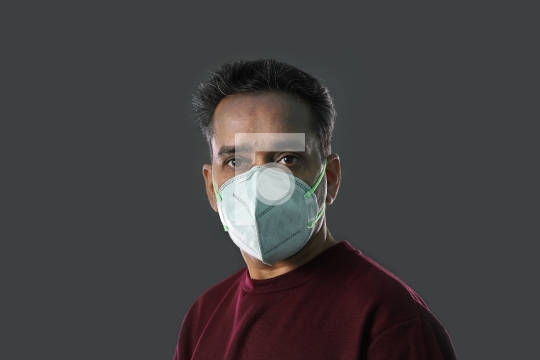n95: (212, 164, 319, 266)
